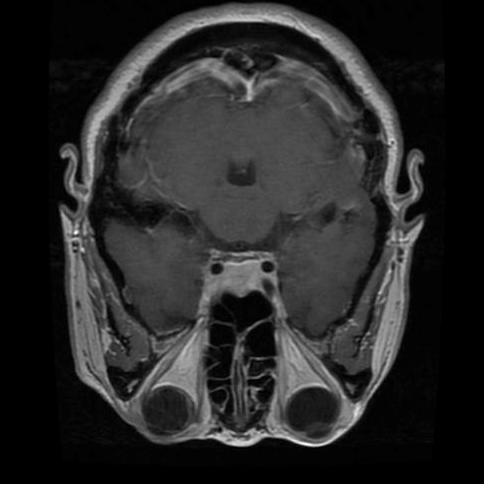Tumour-Pituitary: (205, 248, 281, 301)
